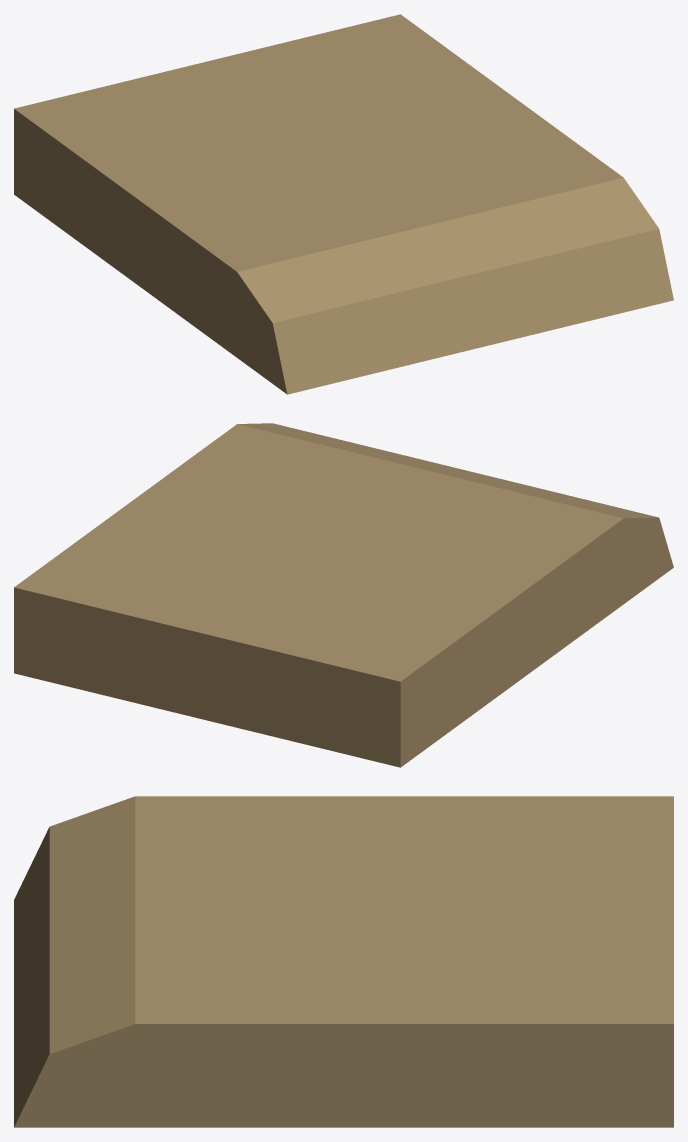
Rendered from roof-flat-awning-c.obj.
The picture shows the model from 3 angles, top to bottom: view 1: azimuth 30°, elevation 25°; view 2: azimuth 150°, elevation 25°; view 3: azimuth 270°, elevation 25°; orthographic projection. The views are drawn at different scales.
Bounding box in the file's own units: 1 × 0.2125 × 1.23.
